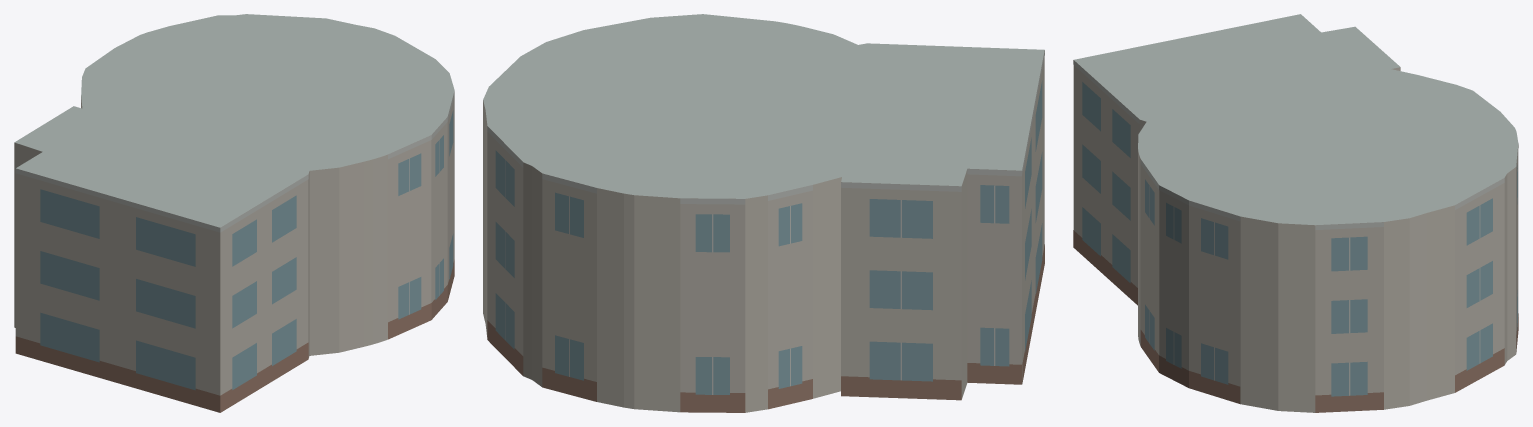
Rendered from survey-upis-32582060.glb.
3 renders of one model, left to right at view 1: azimuth 30°, elevation 25°; view 2: azimuth 150°, elevation 25°; view 3: azimuth 270°, elevation 25°, orthographic. The views are drawn at different scales.
Visible parts, largest first — view 1: survey-upis-32582060.tmp; view 2: survey-upis-32582060.tmp; view 3: survey-upis-32582060.tmp.
Boxes of the visible parts, <box> form: survey-upis-32582060.tmp: <box>14,14,454,412</box>; survey-upis-32582060.tmp: <box>483,14,1044,412</box>; survey-upis-32582060.tmp: <box>1073,14,1518,412</box>.
Size of the model in its own units: 22.08 by 9.15 by 19.66.
